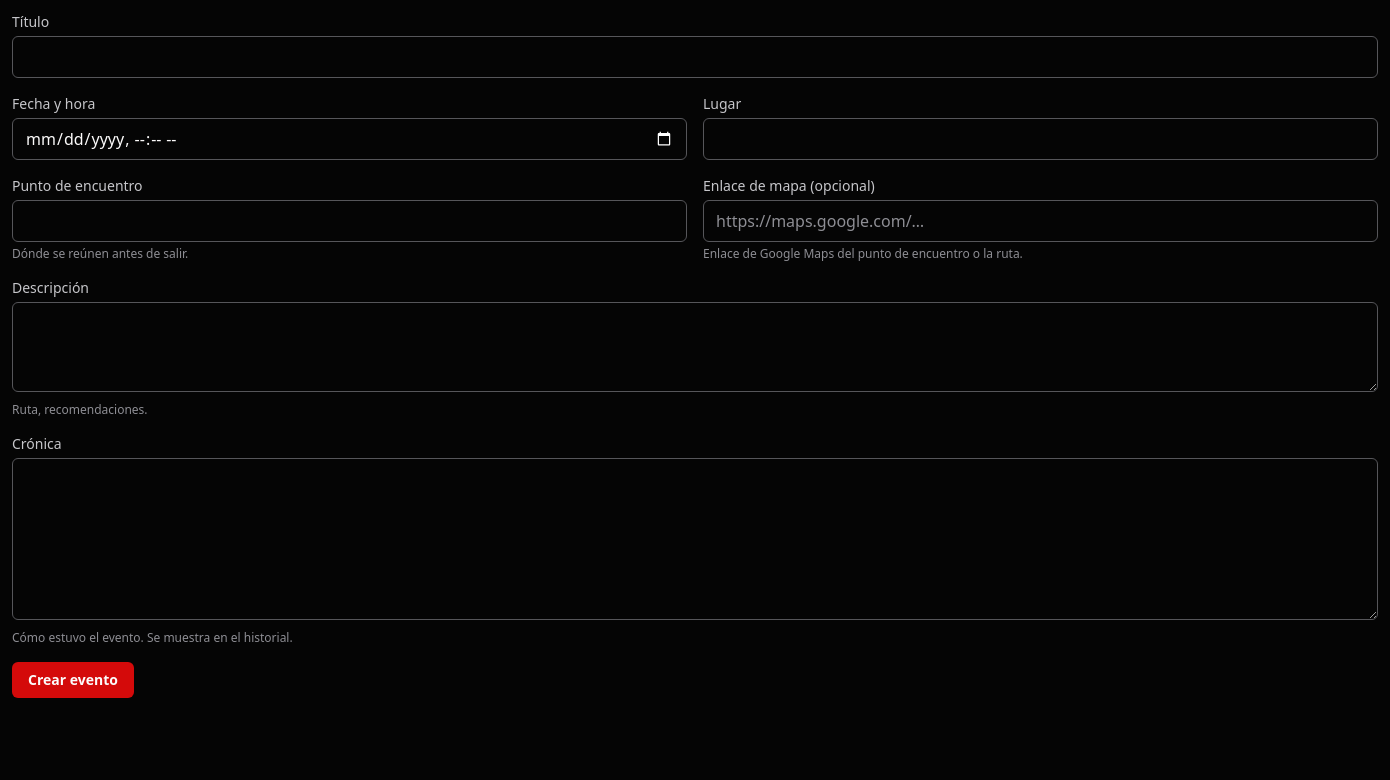
Scenario: EventForm › rechaza un enlace de mapa inválido
Type "Rodada" into the field labelled "Título" at (695, 57), box [12,36,1378,78]
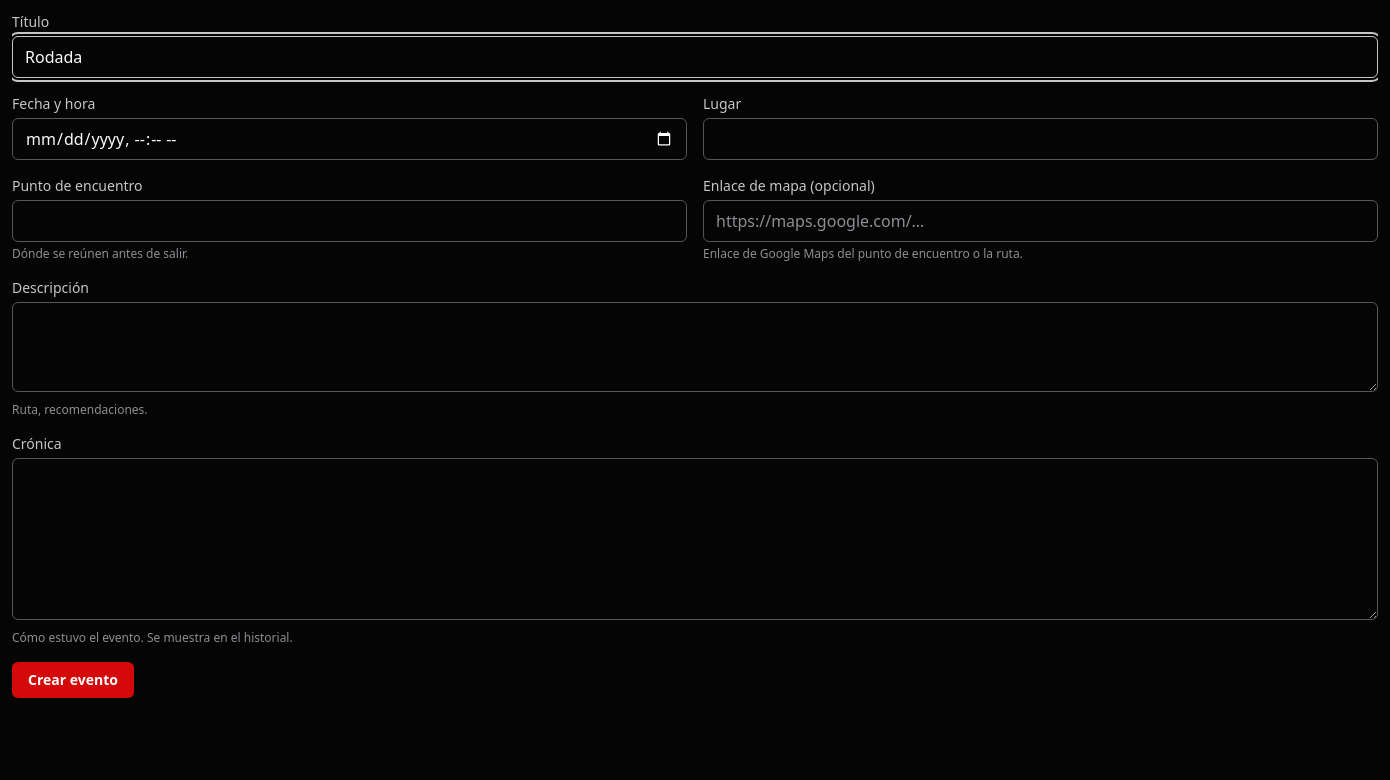
Type "2027-01-15T07:30" into the field labelled "Fecha y hora" at (350, 139), box [12,118,687,160]
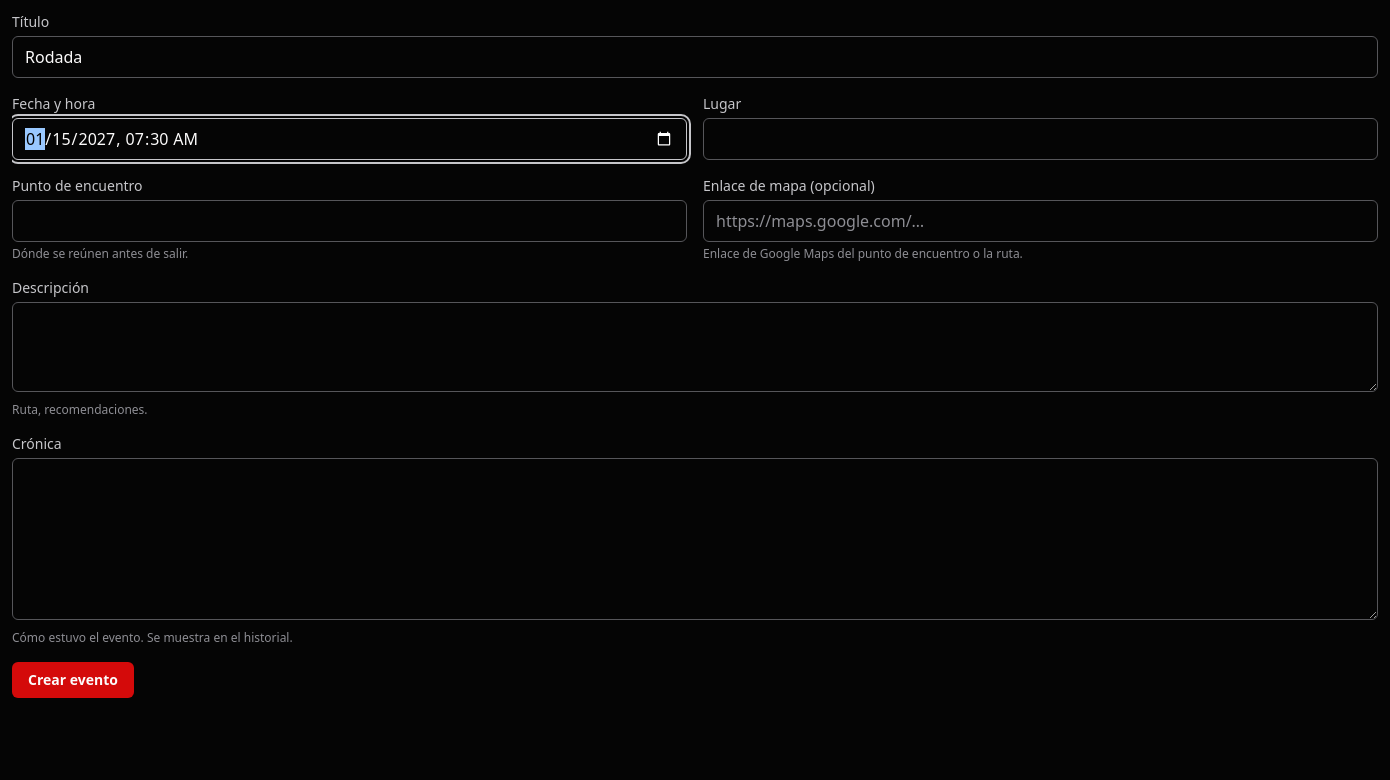
Type "javascript:alert(1)" into the field labelled "Enlace de mapa (opcional)" at (1040, 221), box [703,200,1378,242]
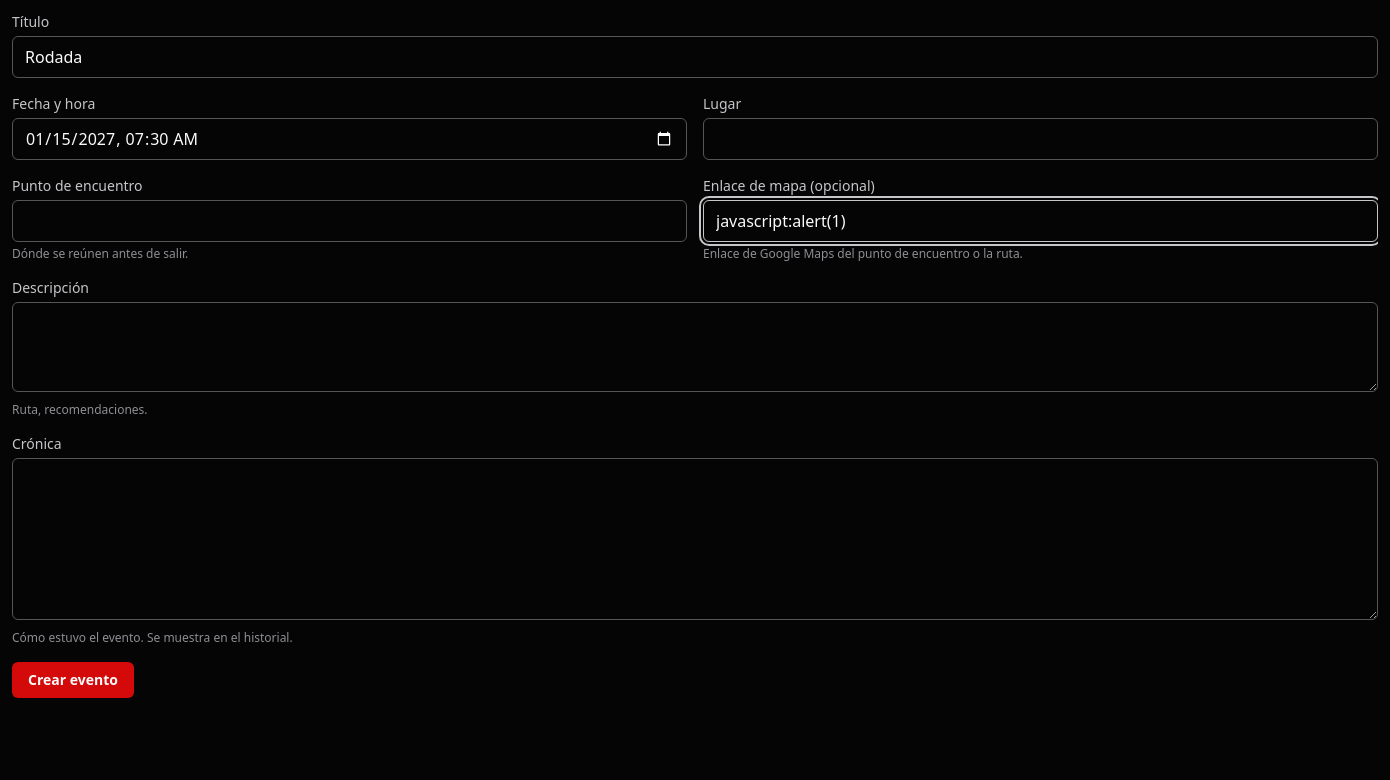
Click the button "Crear evento" at (73, 680), box [12,662,134,698]
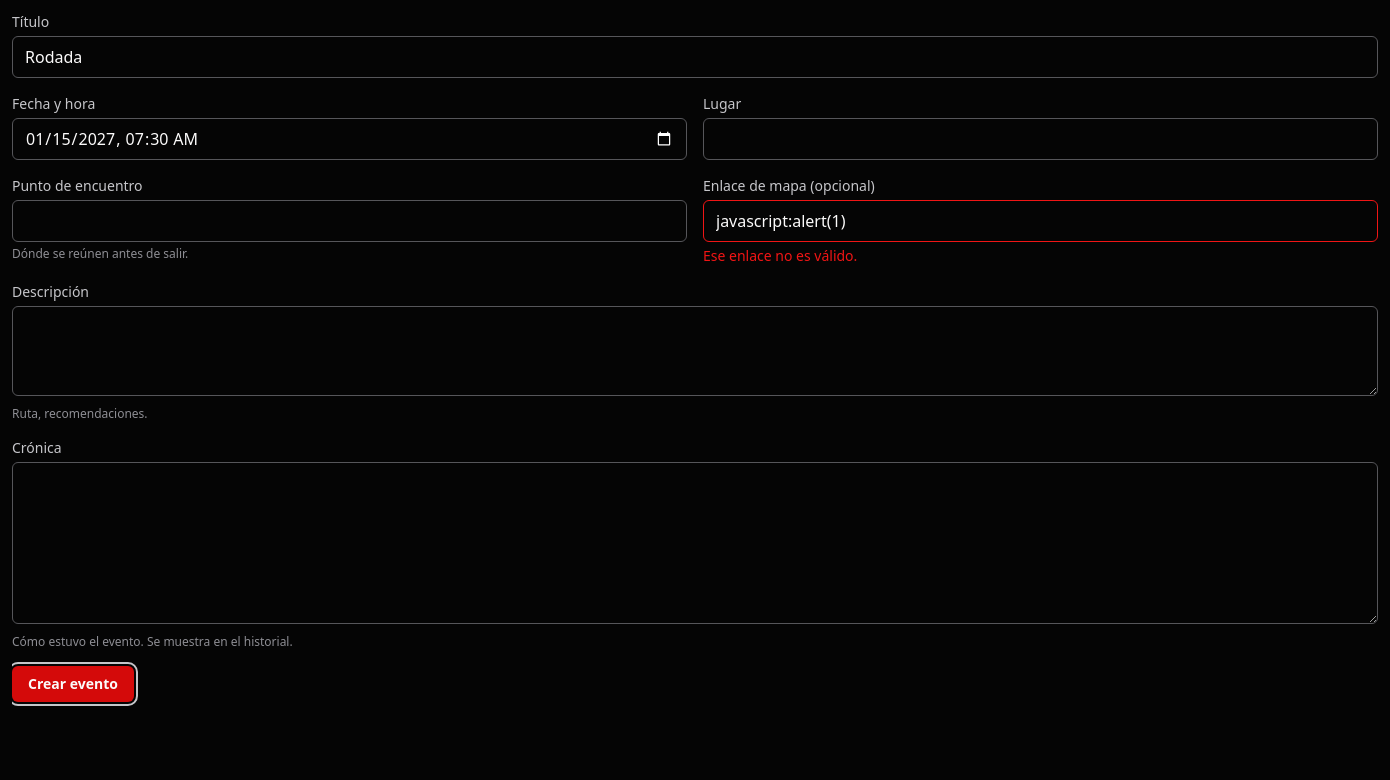
Now the text "Ese enlace no es válido." is shown, box [703,246,857,265]
